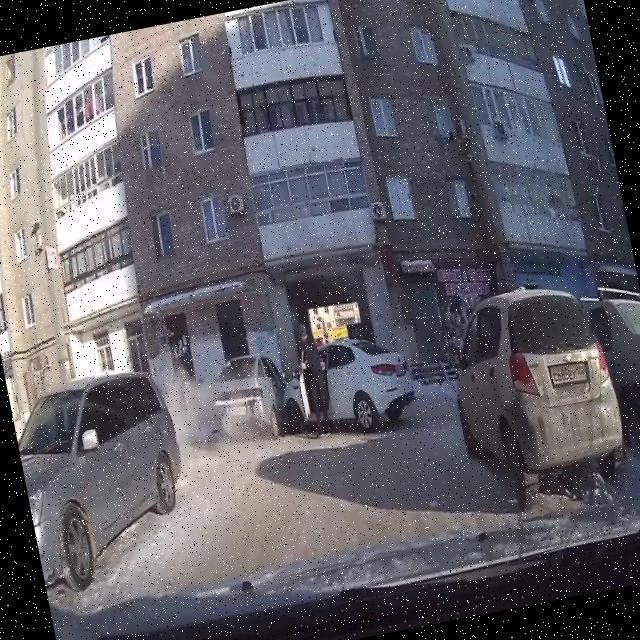accident: (202, 305, 425, 462)
